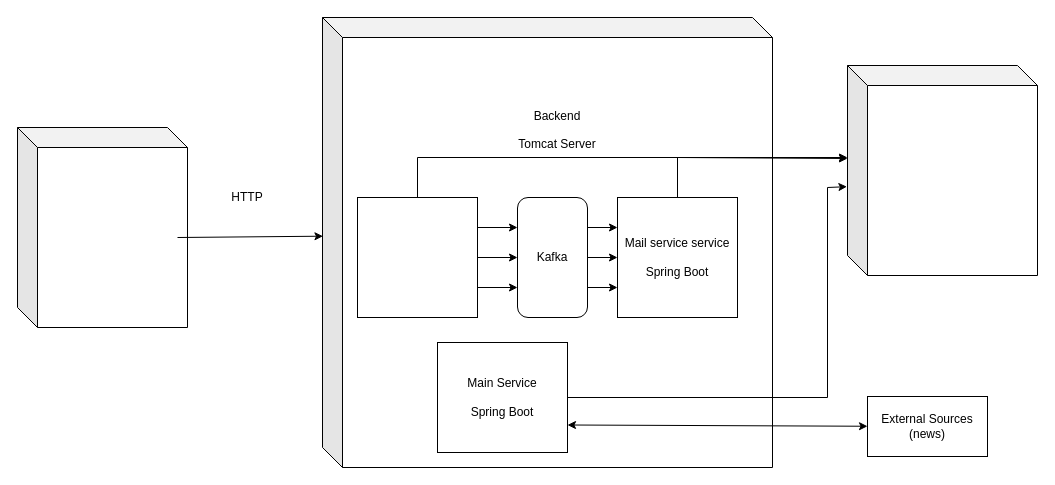
Some shapes in this 1055 by 485 pixel diagram are drawn without their labels. Each missing label, with the box of its shape:
Auth service Spring Boot: (356, 196, 478, 318)
Frontend: (16, 126, 188, 328)
PostgreSQL: (846, 64, 1038, 276)
